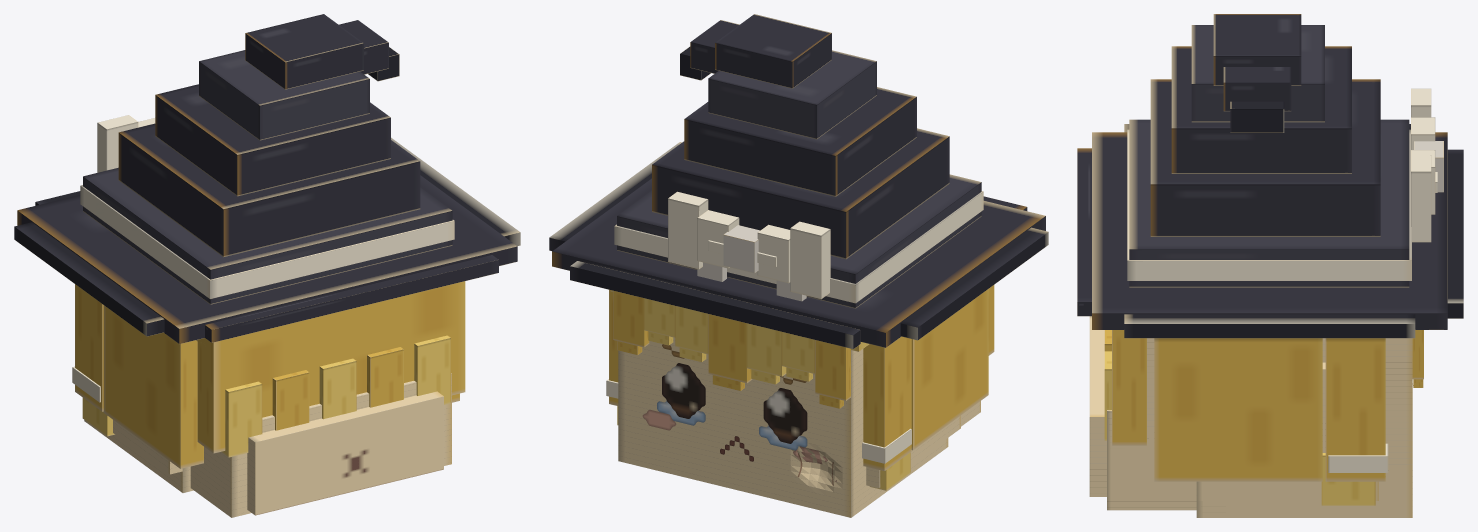
The model's file is dent_marisa_1.obj.
The picture shows the model from 3 angles, left to right: view 1: azimuth 30°, elevation 25°; view 2: azimuth 150°, elevation 25°; view 3: azimuth 270°, elevation 25°; orthographic projection. The views are drawn at different scales.
Visible parts, largest first — view 1: dent_marisa_1; view 2: dent_marisa_1; view 3: dent_marisa_1.
Part boxes in pixels (<box>): dent_marisa_1: <box>14,14,520,517</box>; dent_marisa_1: <box>549,14,1048,517</box>; dent_marisa_1: <box>1077,14,1463,517</box>.
Size of the model in its own units: 19 by 19.34 by 15.53.
Materials: 1 (1 with a texture image).
